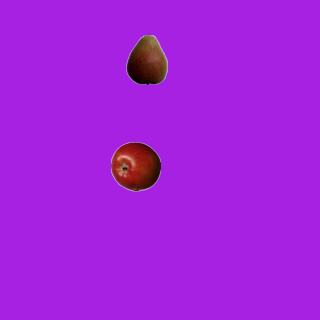Apple Braeburn: (110, 141, 160, 191)
Pear Forelle: (121, 34, 171, 84)
